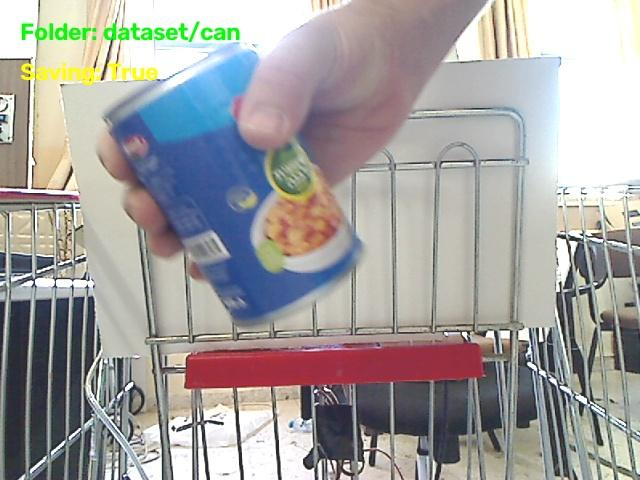can: (105, 44, 361, 324)
